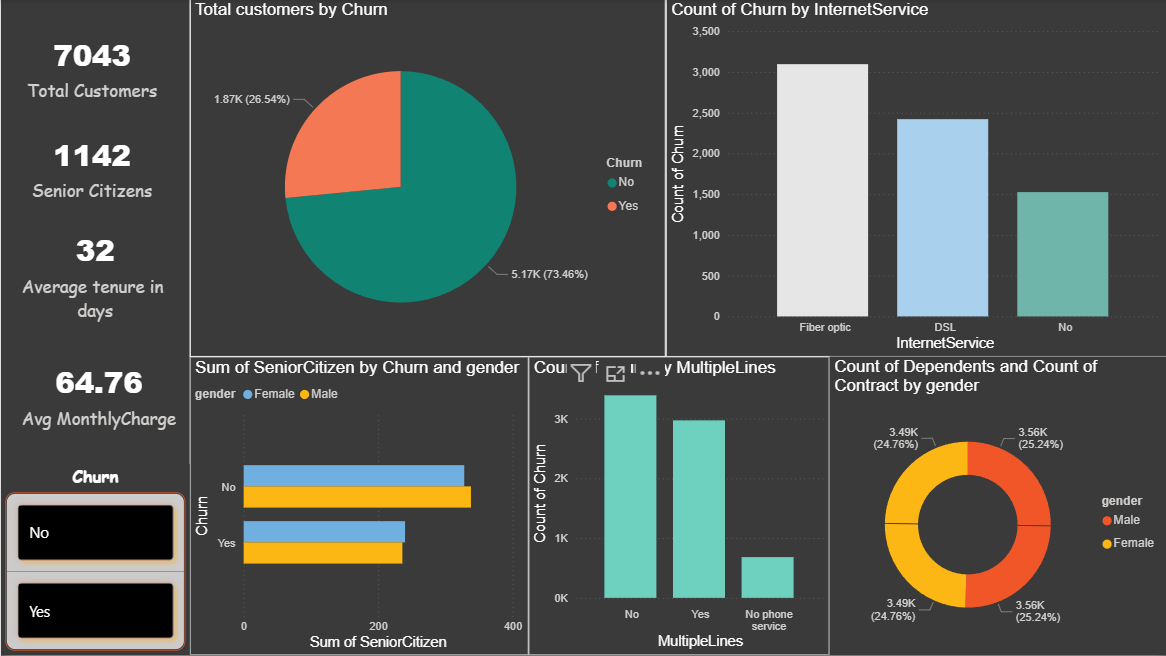

This screenshot's page, from the dashboard's own definition file:
{"tool":"powerbi","page":{"name":"Page 1","canvas":[1280,720],"ordinal":0},"visuals":[{"type":"card","fields":{"Values":["Count(WA_Fn-UseC_-Telco-Customer-Churn.customerID)"]},"box":[0,0,200.3,149.6],"z":0},{"type":"card","fields":{"Values":["Avg(WA_Fn-UseC_-Telco-Customer-Churn.MonthlyCharges)"]},"box":[0,359.5,215.4,149.6],"z":1},{"type":"card","fields":{"Values":["Sum(WA_Fn-UseC_-Telco-Customer-Churn.SeniorCitizen)"]},"box":[0,109.8,200.3,149.6],"z":2},{"type":"card","fields":{"Values":["Avg(WA_Fn-UseC_-Telco-Customer-Churn.tenure)"]},"box":[0,196.2,207.2,186.6],"z":3},{"type":"clusteredBarChart","fields":{"Category":["WA_Fn-UseC_-Telco-Customer-Churn.Churn"],"Series":["WA_Fn-UseC_-Telco-Customer-Churn.gender"],"Y":["Sum(WA_Fn-UseC_-Telco-Customer-Churn.SeniorCitizen)"]},"box":[207.2,392.5,371.9,328],"z":4},{"type":"clusteredColumnChart","fields":{"Category":["WA_Fn-UseC_-Telco-Customer-Churn.MultipleLines"],"Y":["CountNonNull(WA_Fn-UseC_-Telco-Customer-Churn.Churn)"]},"box":[579.1,392.5,330.7,328],"z":5},{"type":"pieChart","fields":{"Category":["WA_Fn-UseC_-Telco-Customer-Churn.Churn"],"Y":["CountNonNull(WA_Fn-UseC_-Telco-Customer-Churn.gender)"]},"box":[207.2,0,522.8,392.5],"z":6},{"type":"columnChart","fields":{"Y":["CountNonNull(WA_Fn-UseC_-Telco-Customer-Churn.Churn)"],"Category":["WA_Fn-UseC_-Telco-Customer-Churn.InternetService"]},"box":[730,0,550.3,392.5],"z":7},{"type":"donutChart","fields":{"Category":["WA_Fn-UseC_-Telco-Customer-Churn.gender"],"Y":["CountNonNull(WA_Fn-UseC_-Telco-Customer-Churn.Dependents)","CountNonNull(WA_Fn-UseC_-Telco-Customer-Churn.Contract)"]},"box":[909.8,392.5,370.5,328],"z":8},{"type":"advancedSlicerVisual","fields":{"Values":["WA_Fn-UseC_-Telco-Customer-Churn.Churn"]},"box":[0,510,207,210],"z":9}]}

Visuals, with their boxes in screenshot pixels (x1, y1, x2, y2), scaled from the page's 1280x720 canvas onto the 1166x656 screenshot:
card - Count(WA_Fn-UseC_-Telco-Customer-Churn.customerID): rect(0, 0, 182, 136)
card - Avg(WA_Fn-UseC_-Telco-Customer-Churn.MonthlyCharges): rect(0, 328, 196, 464)
card - Sum(WA_Fn-UseC_-Telco-Customer-Churn.SeniorCitizen): rect(0, 100, 182, 236)
card - Avg(WA_Fn-UseC_-Telco-Customer-Churn.tenure): rect(0, 179, 189, 349)
clusteredBarChart - WA_Fn-UseC_-Telco-Customer-Churn.Churn x WA_Fn-UseC_-Telco-Customer-Churn.gender: rect(189, 358, 528, 655)
clusteredColumnChart - WA_Fn-UseC_-Telco-Customer-Churn.MultipleLines x CountNonNull(WA_Fn-UseC_-Telco-Customer-Churn.Churn): rect(528, 358, 829, 655)
pieChart - WA_Fn-UseC_-Telco-Customer-Churn.Churn x CountNonNull(WA_Fn-UseC_-Telco-Customer-Churn.gender): rect(189, 0, 665, 358)
columnChart - CountNonNull(WA_Fn-UseC_-Telco-Customer-Churn.Churn) x WA_Fn-UseC_-Telco-Customer-Churn.InternetService: rect(665, 0, 1165, 358)
donutChart - WA_Fn-UseC_-Telco-Customer-Churn.gender x CountNonNull(WA_Fn-UseC_-Telco-Customer-Churn.Dependents): rect(829, 358, 1165, 655)
advancedSlicerVisual - WA_Fn-UseC_-Telco-Customer-Churn.Churn: rect(0, 465, 189, 655)
